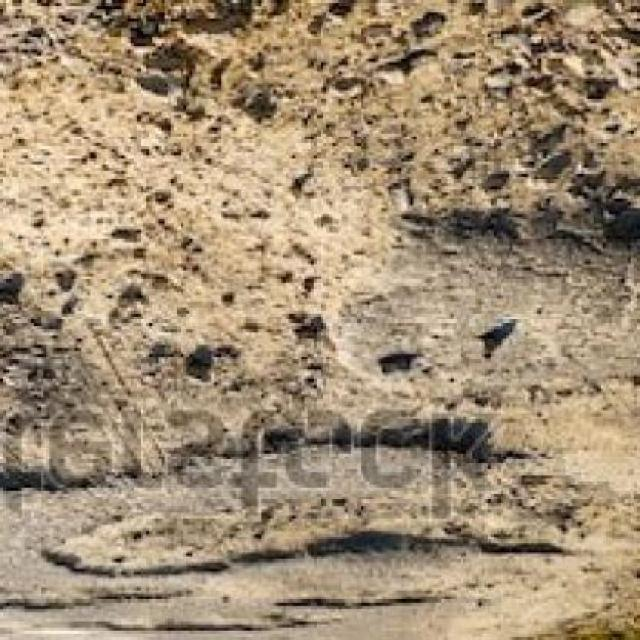pothole: (31, 498, 572, 587)
